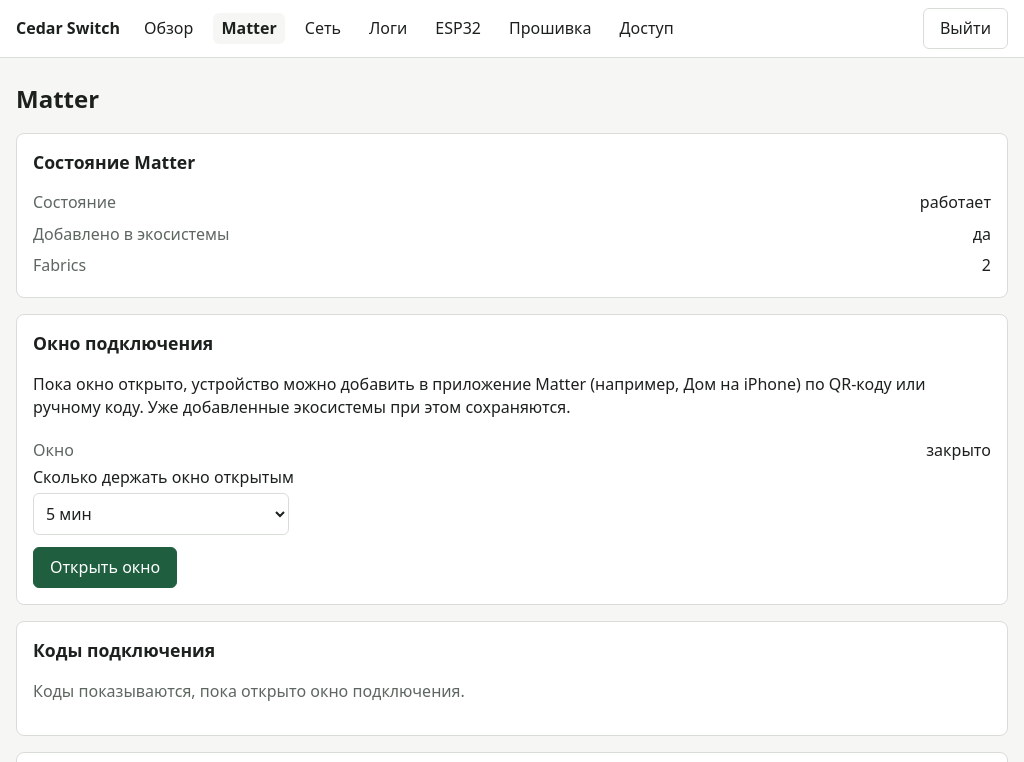
matter › says a window is already open when the device refuses with invalid_state
expect the text "закрыто" is shown: met, box [926,439,991,462]
Step 1. Click the button "Открыть окно" → (105, 568), box [33,547,177,588]
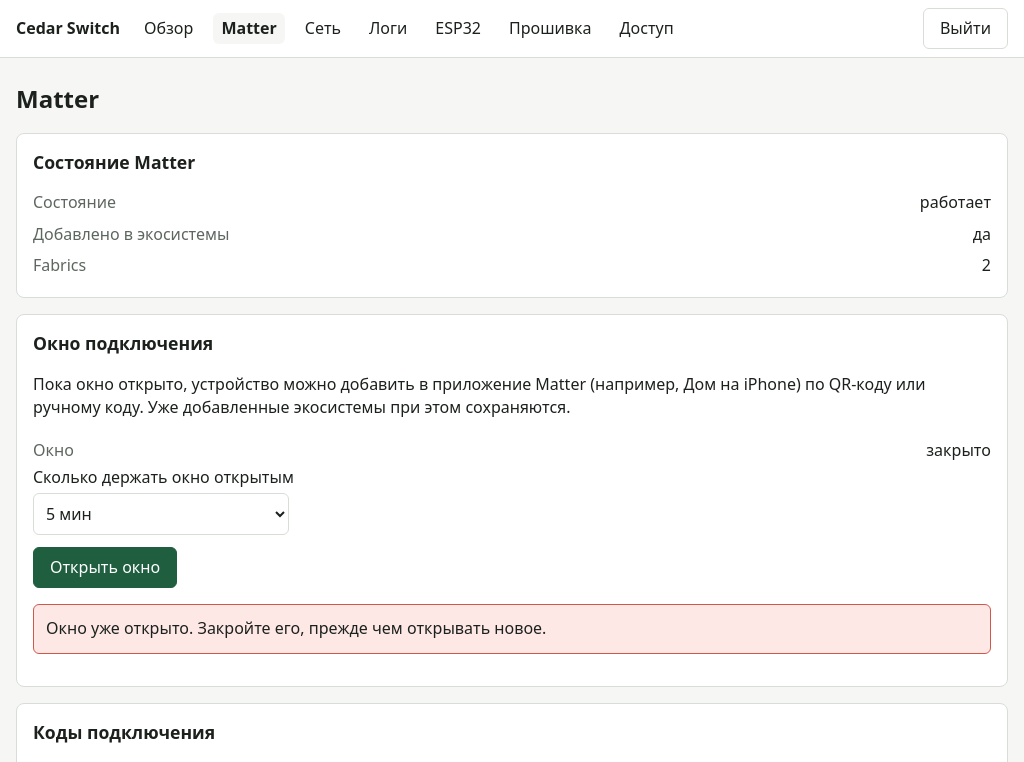
expect the message reads "Окно уже открыто. Закройте его, прежде чем открывать новое.": met, box [46,618,546,640]
